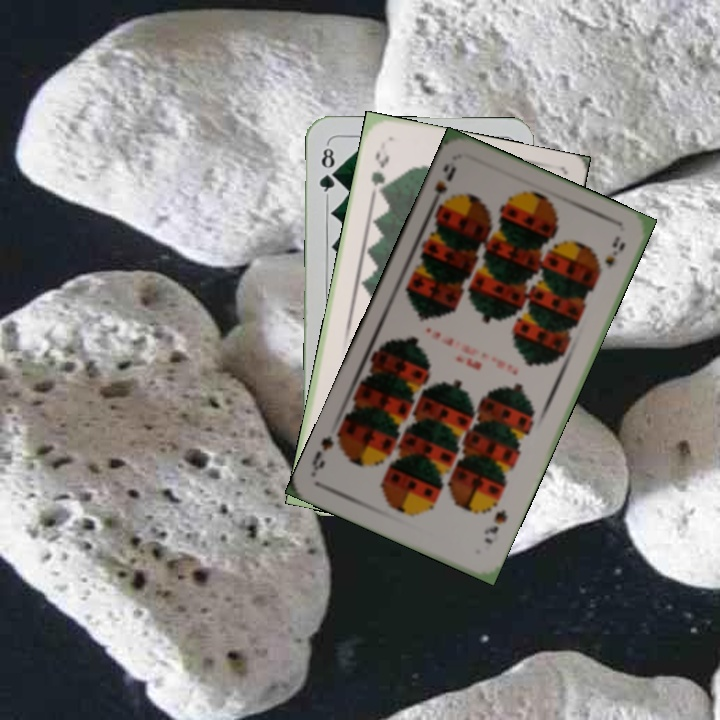G8: (315, 141, 339, 200)
G9: (366, 148, 392, 199)
S9: (426, 159, 459, 214), (480, 505, 510, 547)
